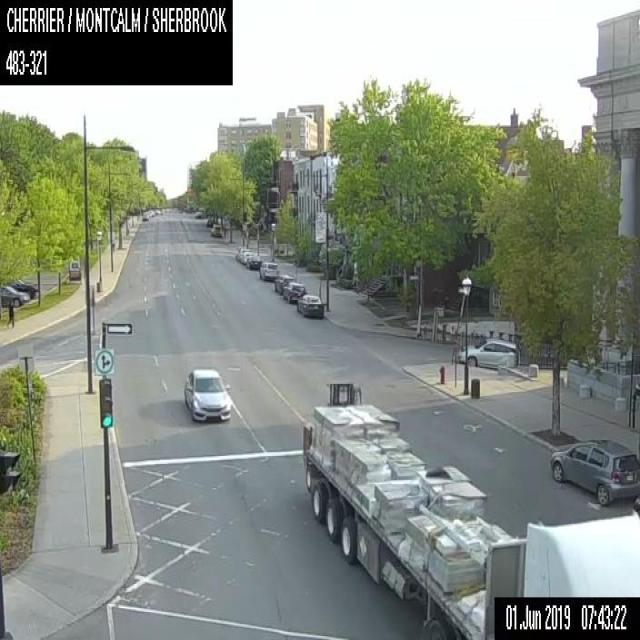pedestrian: (6, 298, 14, 330)
vehicle: (300, 381, 639, 639), (492, 594, 639, 638), (549, 439, 639, 506), (182, 365, 232, 423), (456, 336, 516, 364), (297, 294, 323, 317), (0, 285, 27, 307), (9, 278, 36, 298), (282, 281, 304, 303), (274, 273, 294, 294), (258, 261, 278, 279), (246, 254, 261, 268), (210, 223, 221, 236), (205, 218, 212, 226), (142, 212, 148, 220), (195, 211, 202, 217)
